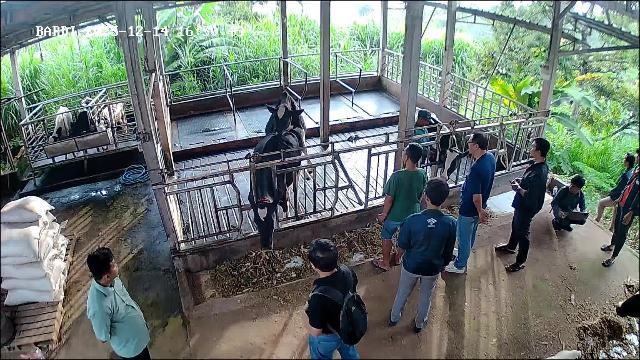mounting: (259, 88, 314, 183)
